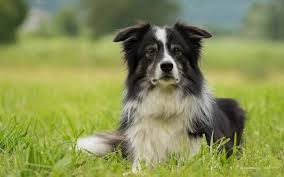dog: (84, 13, 252, 162)
